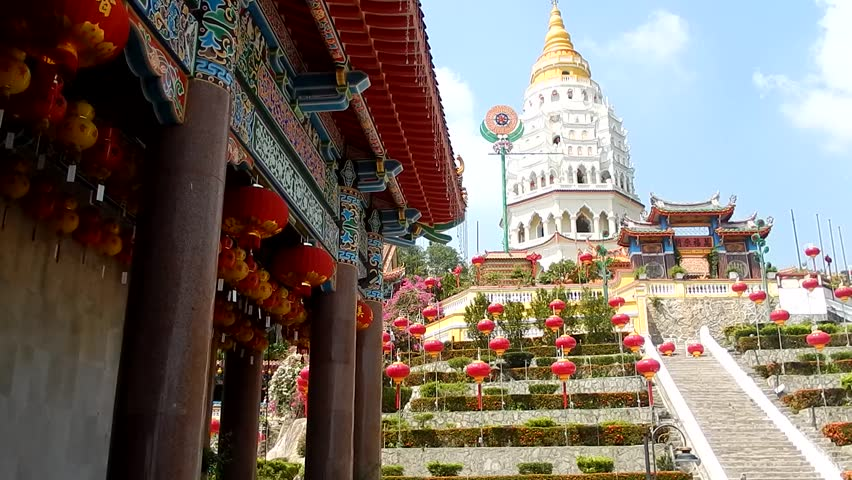Buddhist Temple: (485, 2, 644, 256)
